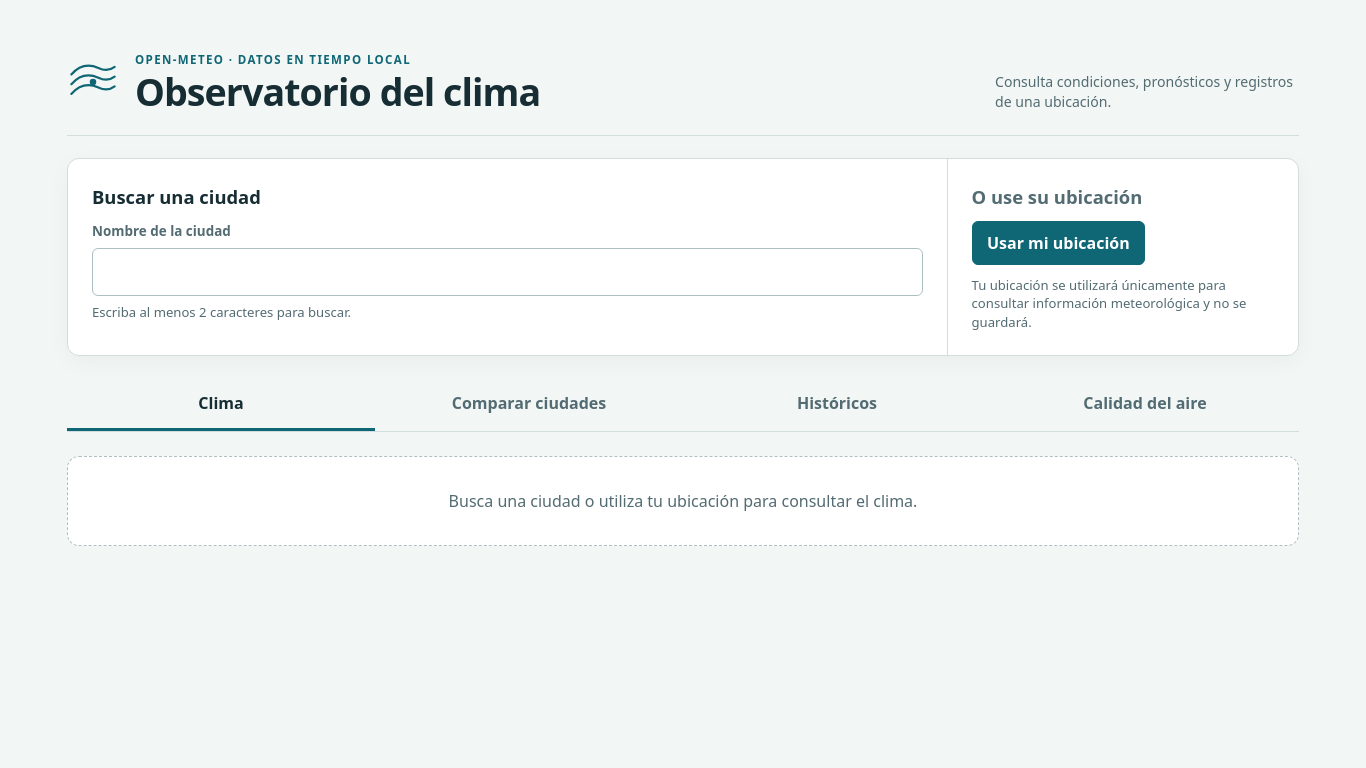
Test: RF-03: geolocalización del navegador › maneja códigos desconocidos sin mostrar detalles técnicos
The image size is (1366, 768).
Click the button "Usar mi ubicación": point(1058, 243) x1=972 y1=221 x2=1145 y2=265
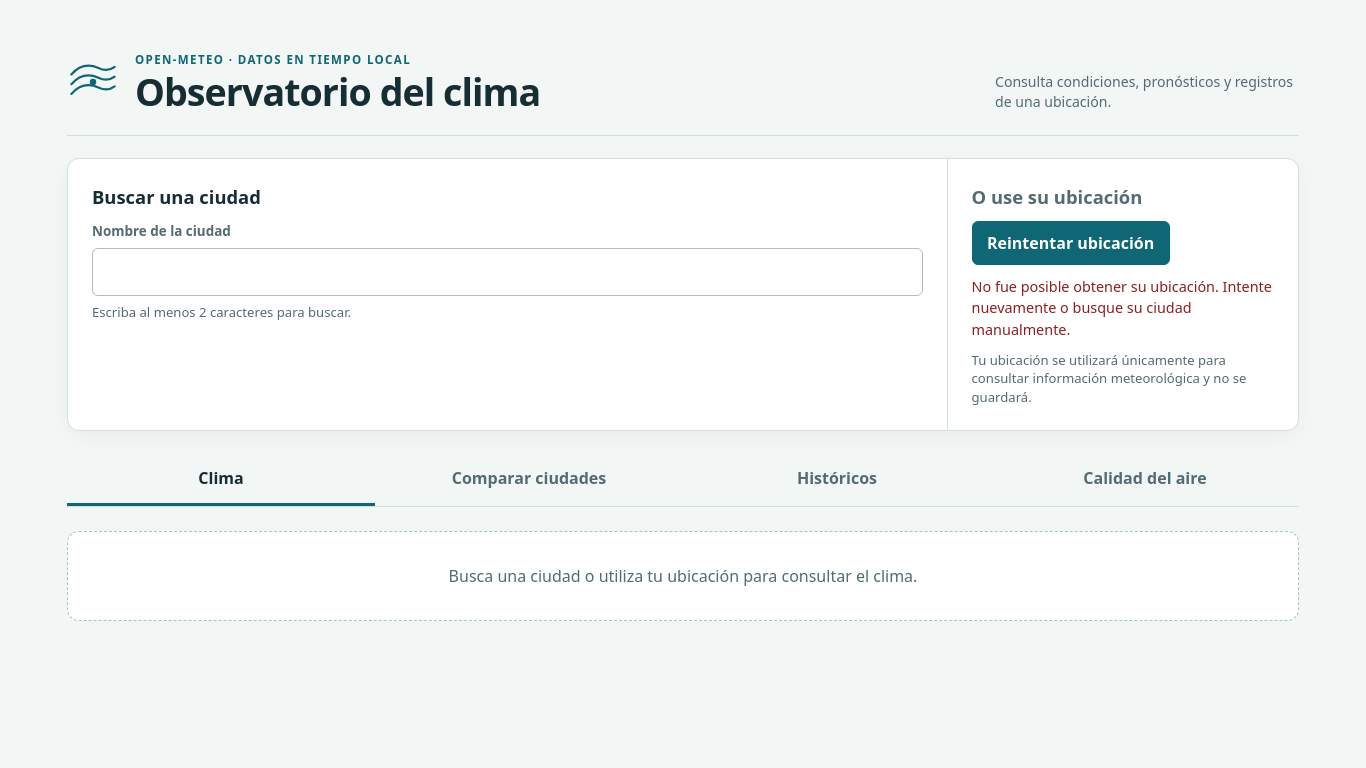
Result: the message shows "No fue posible obtener su ubicación. Intente nuevamente o busque su ciudad manualmente." at x1=972 y1=277 x2=1272 y2=339
